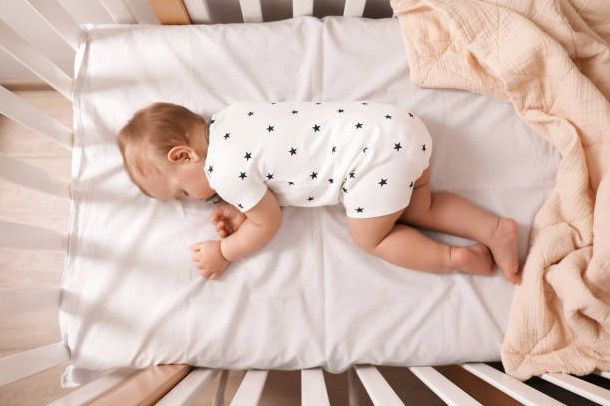baby: (118, 102, 519, 282)
crib: (280, 362, 609, 404)
